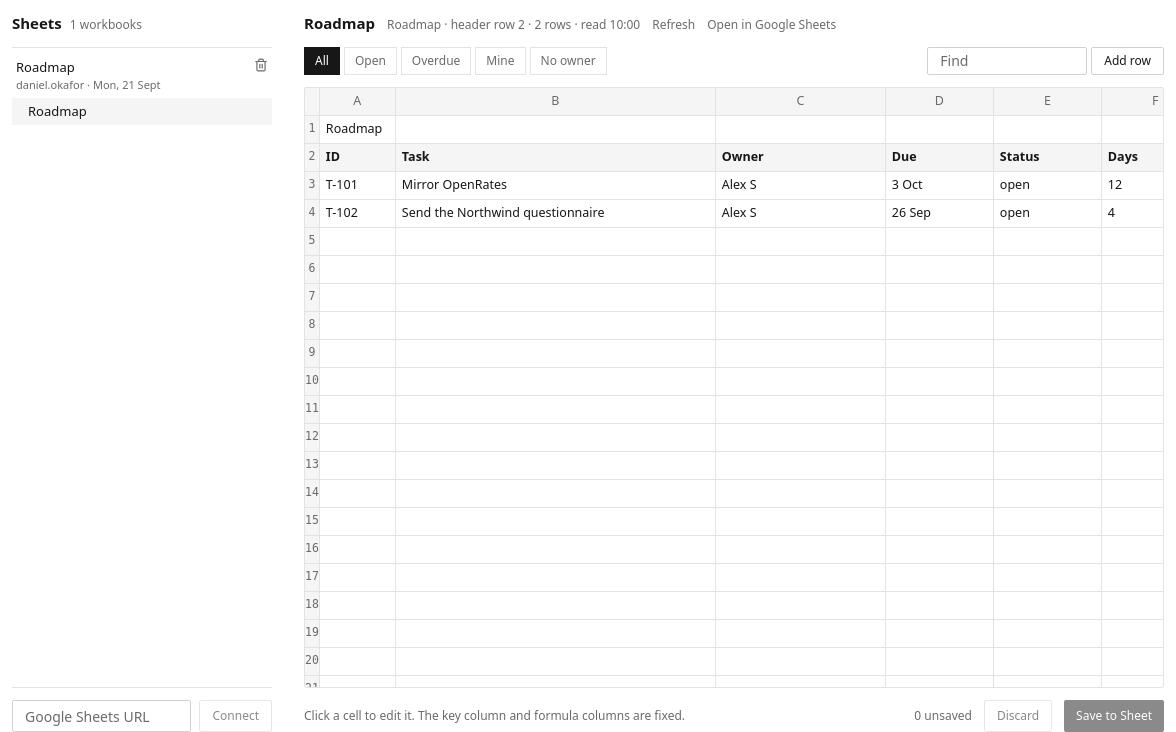
Sheets: a filter that matches nothing › says so and offers every row back
This screenshot has width=1176, height=732.
Type "no such task" into the field with placeholder "Find" at (1007, 60), box [927, 46, 1087, 74]
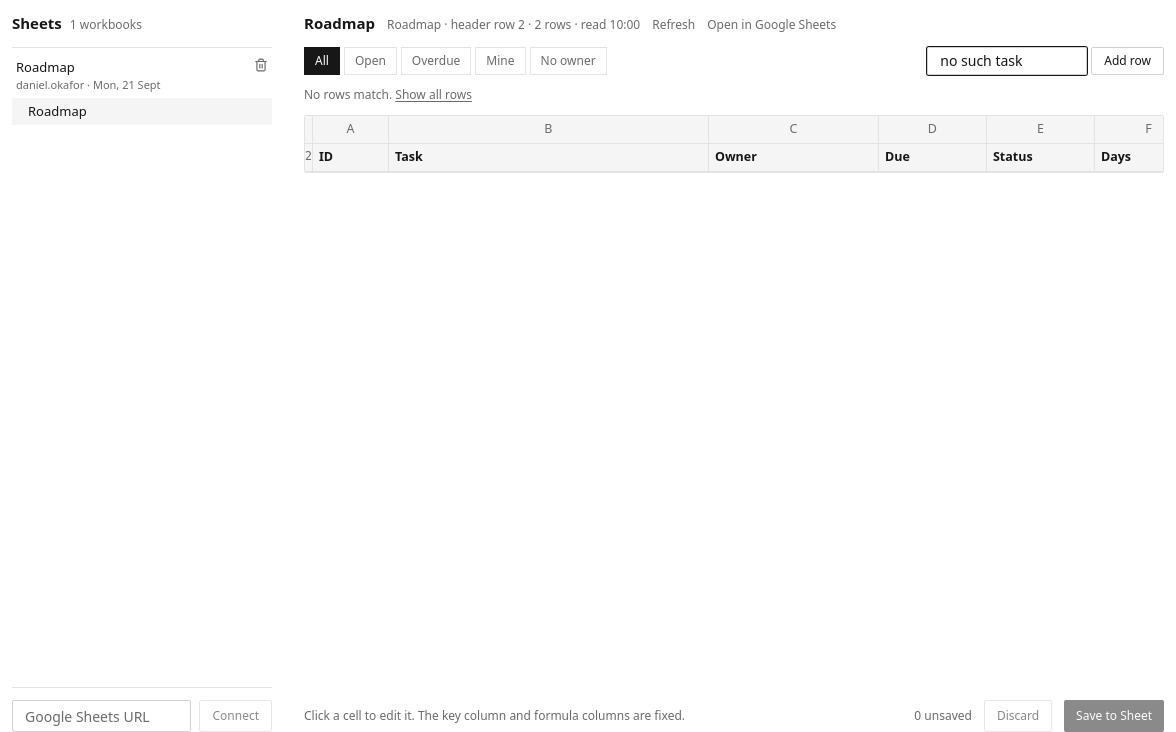
expect the element with test id "no-match" shows "No rows match.": met, box [304, 86, 395, 102]
Click the button "Show all rows" at (434, 94), box [395, 86, 472, 102]
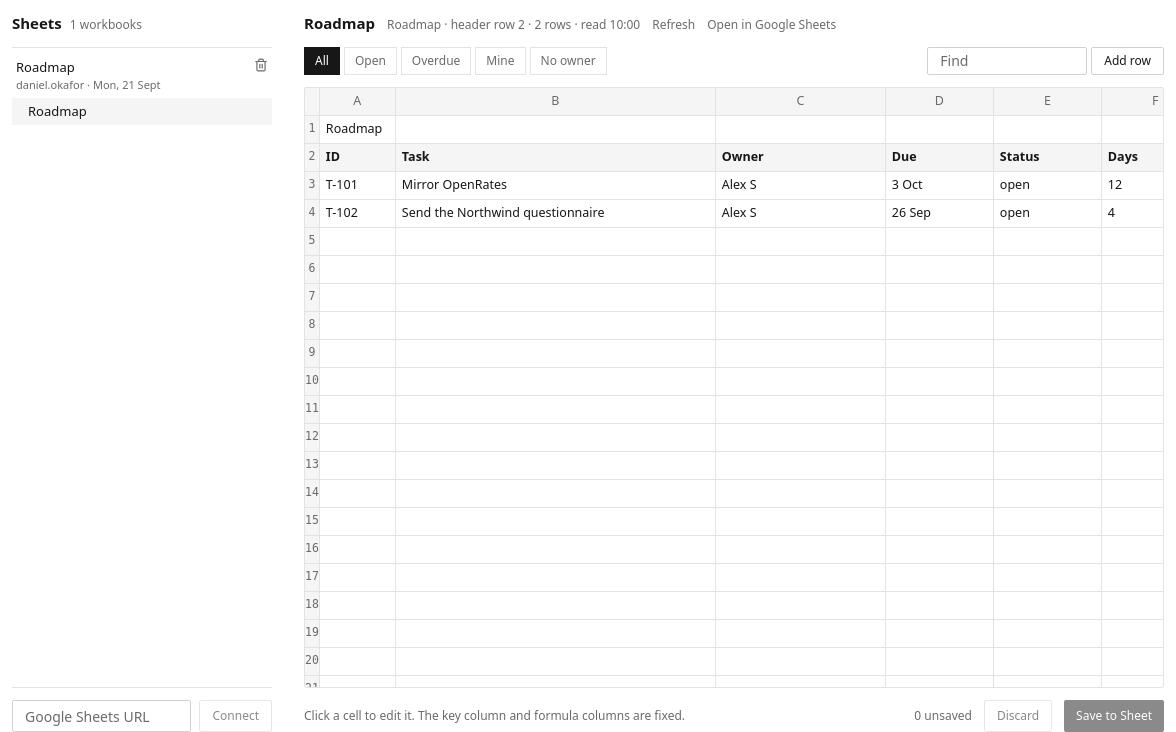
expect the element with test id "no-match" is gone: met
expect the field with placeholder "Find" is empty: met, box [927, 46, 1087, 74]
